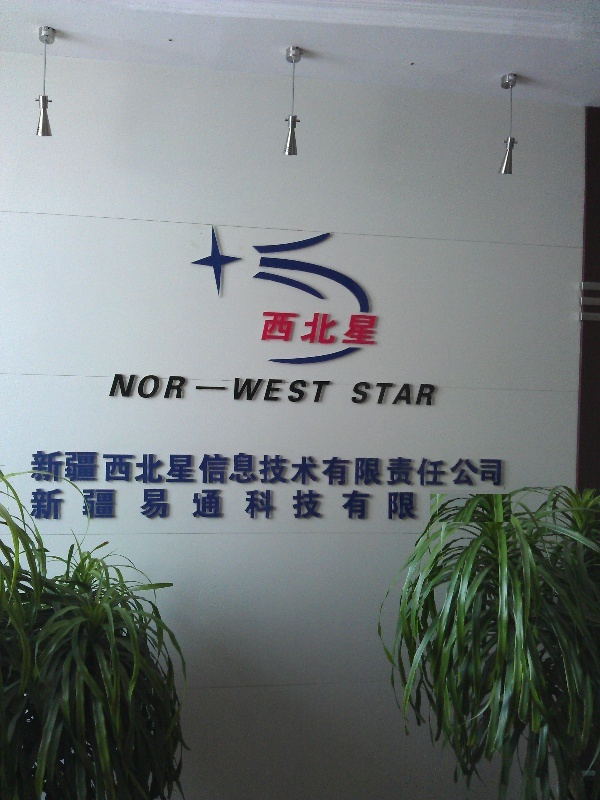text: (33, 448, 48, 489), (49, 448, 64, 489), (65, 448, 80, 489), (81, 448, 96, 489), (97, 448, 112, 489), (113, 448, 128, 489), (129, 448, 144, 489), (145, 448, 160, 489), (161, 448, 176, 489), (177, 448, 192, 489), (193, 448, 208, 489), (209, 448, 224, 489), (225, 448, 240, 489), (241, 448, 256, 489), (257, 448, 272, 489), (273, 448, 288, 489), (289, 448, 304, 489), (305, 448, 320, 489), (321, 448, 336, 489), (337, 448, 352, 489), (353, 448, 368, 489), (369, 448, 384, 489), (385, 448, 400, 489), (401, 448, 416, 489), (417, 448, 432, 489), (433, 448, 448, 489), (449, 448, 464, 489), (465, 448, 480, 489), (481, 448, 496, 489), (273, 310, 288, 347), (289, 310, 304, 347), (305, 310, 320, 347), (321, 310, 336, 347), (337, 310, 352, 347), (353, 310, 368, 347), (33, 487, 48, 524), (49, 487, 64, 524), (65, 487, 80, 524), (81, 487, 96, 524), (97, 487, 112, 524), (113, 487, 128, 524), (129, 487, 144, 524), (145, 487, 160, 524), (161, 487, 176, 524), (177, 487, 192, 524), (193, 487, 208, 524), (209, 487, 224, 524), (225, 487, 240, 524), (241, 487, 256, 524), (257, 487, 272, 524), (273, 487, 288, 524), (289, 487, 304, 524), (305, 487, 320, 524), (321, 487, 336, 524), (337, 487, 352, 524), (353, 487, 368, 524), (369, 487, 384, 524), (385, 487, 400, 524), (401, 487, 416, 524), (129, 373, 144, 401), (145, 373, 160, 401), (161, 373, 176, 401), (369, 310, 380, 347), (241, 377, 256, 404), (257, 377, 272, 404), (273, 377, 288, 404), (289, 377, 304, 404), (305, 377, 320, 404), (114, 373, 128, 401), (353, 381, 368, 407), (369, 381, 384, 407), (385, 381, 400, 407), (401, 381, 416, 407), (417, 381, 432, 407), (262, 310, 272, 347), (497, 448, 505, 489), (177, 373, 188, 401), (321, 377, 331, 404), (234, 377, 240, 404), (28, 487, 32, 524), (417, 487, 421, 524), (433, 381, 438, 407), (29, 448, 32, 489), (209, 385, 224, 393), (196, 385, 208, 393), (349, 381, 352, 407), (225, 385, 229, 393)
